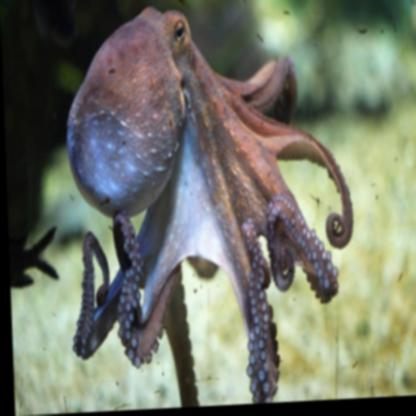Squid: (61, 0, 357, 413)
